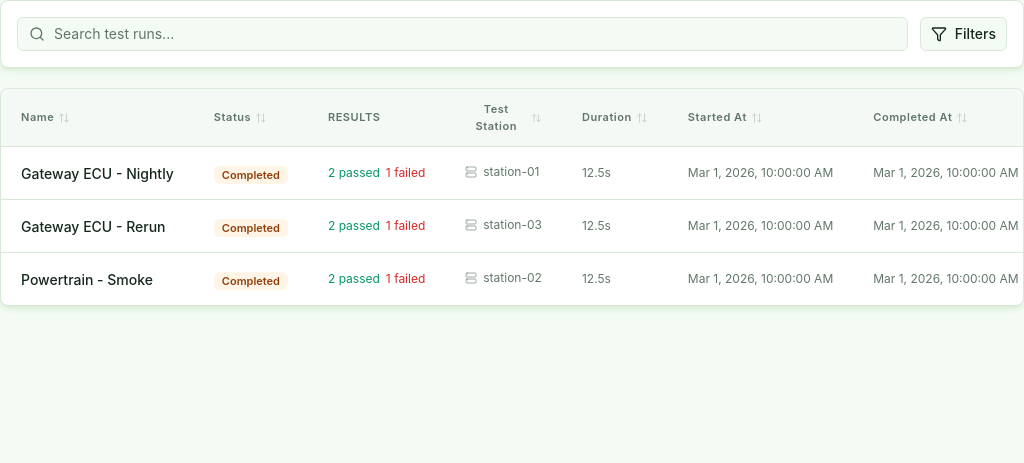
Test case: the run list › offers each location once however many benches it holds
The width and height of the screenshot is (1024, 463).
Expected: the link "Gateway ECU - Nightly" is shown, [21,165,174,182]
Click the button "Filters".
click(963, 34)  # box [920,17,1007,51]
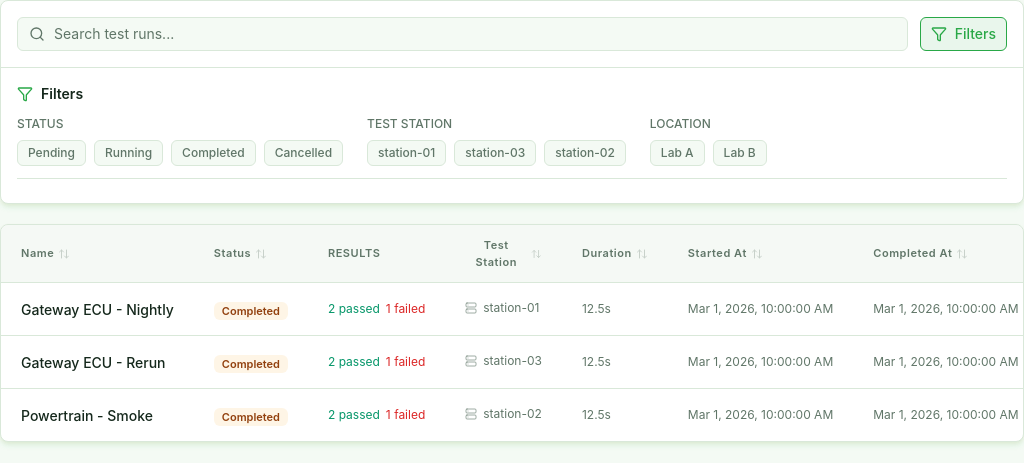
Now the number of buttons "Lab A" is 1, box [650,140,705,166]
Now the number of buttons "Lab B" is 1, box [713,140,767,166]
